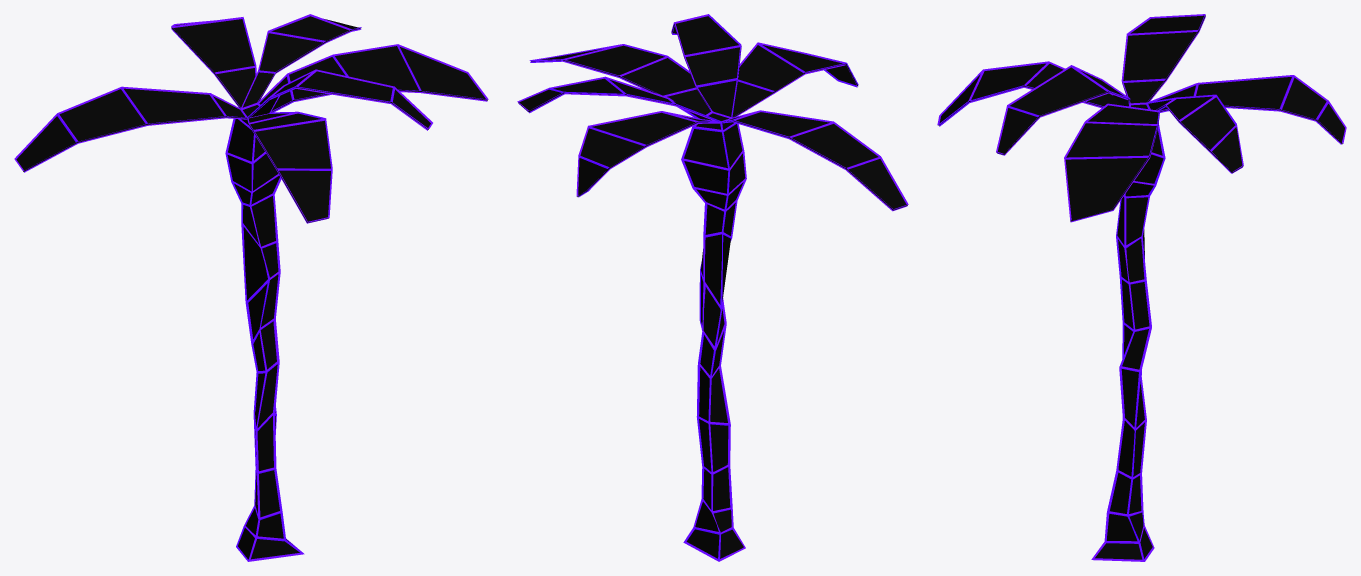
Rendered from low_poly_retro_palm_tree.glb.
The picture shows the model from 3 angles, left to right: view 1: azimuth 30°, elevation 25°; view 2: azimuth 150°, elevation 25°; view 3: azimuth 270°, elevation 25°; orthographic projection.
Visible parts, largest first — view 1: Object_2, Object_3; view 2: Object_2, Object_3; view 3: Object_2, Object_3.
Part boxes in pixels (bbox=[...]): Object_2: bbox=[16, 16, 487, 559]; Object_3: bbox=[14, 14, 488, 561]; Object_2: bbox=[518, 16, 907, 558]; Object_3: bbox=[517, 14, 908, 561]; Object_2: bbox=[938, 15, 1344, 559]; Object_3: bbox=[937, 14, 1346, 561].
Bounding box in the file's own units: 13.72 × 15.41 × 11.61.
